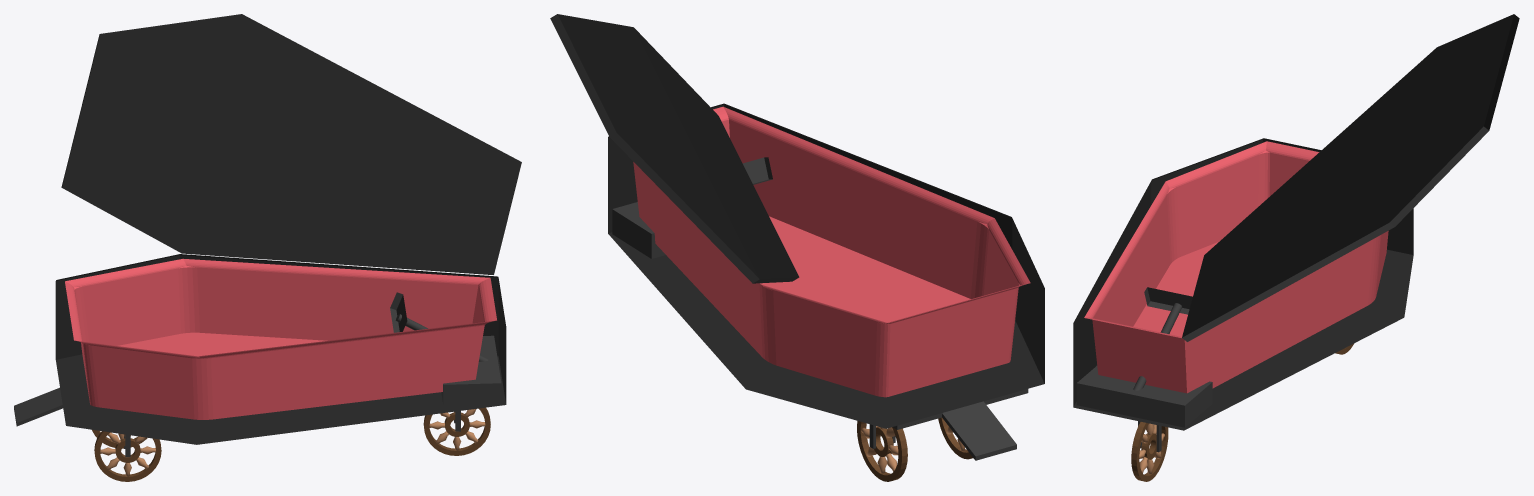
The model's file is coffinwagon.gltf.
3 views of the same model, side by side, from view 1: azimuth 30°, elevation 25°; view 2: azimuth 150°, elevation 25°; view 3: azimuth 270°, elevation 25° (orthographic). The views are drawn at different scales.
Parts seen in each view (by area): view 1: Cube.003; view 2: Cube.003; view 3: Cube.003.
Boxes of the visible parts, box(x1,y1,x2,y2) form: Cube.003: box(14, 14, 521, 481); Cube.003: box(550, 14, 1044, 481); Cube.003: box(1073, 14, 1519, 481).
Bounding box in the file's own units: 11.37 × 8.87 × 9.23.
